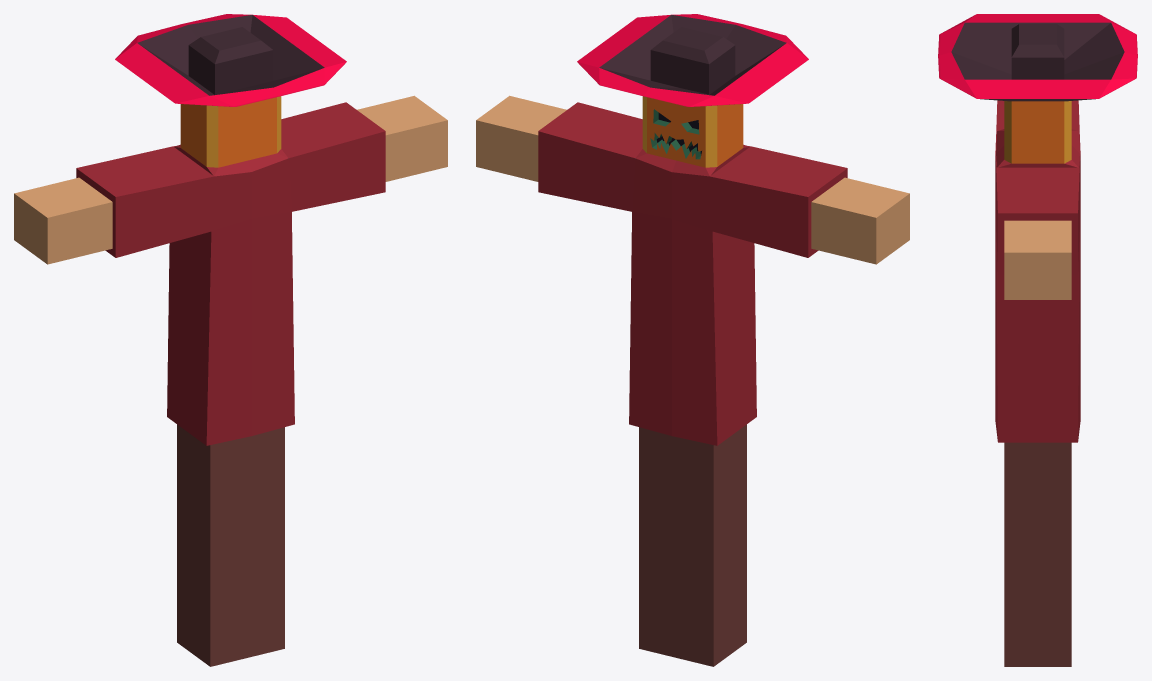
Rendered from RojasCenedeseMartina_4toB_Scarecrow (2).fbx.
3 views of the same model, side by side, from view 1: azimuth 30°, elevation 25°; view 2: azimuth 150°, elevation 25°; view 3: azimuth 270°, elevation 25° (orthographic).
Visible parts, largest first — view 1: Cube; view 2: Cube; view 3: Cube.
Part boxes in pixels (x1=…): Cube: x1=14, y1=14, x2=447, y2=666; Cube: x1=476, y1=14, x2=909, y2=666; Cube: x1=938, y1=14, x2=1137, y2=666.
Size of the model in its own units: 118 by 170 by 50.25.
Materials: 1 (1 with a texture image).
